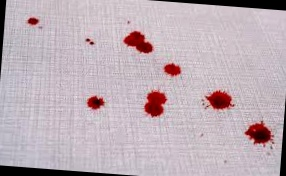blood: (123, 30, 155, 56), (245, 121, 275, 146), (144, 89, 167, 119), (207, 90, 235, 111), (85, 95, 105, 110), (162, 62, 182, 76), (26, 17, 40, 27), (84, 37, 96, 46)
